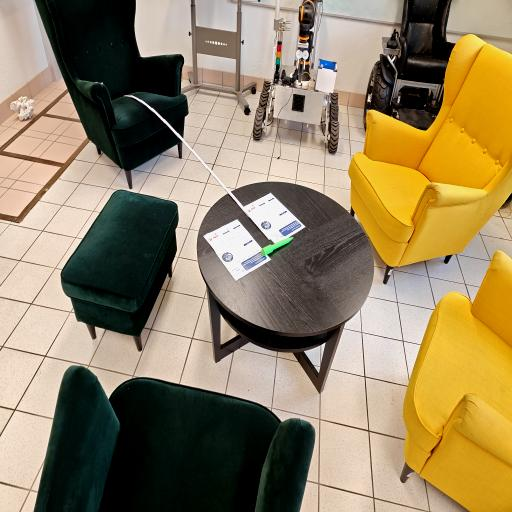Probe-Detection: (262, 237, 293, 256)
